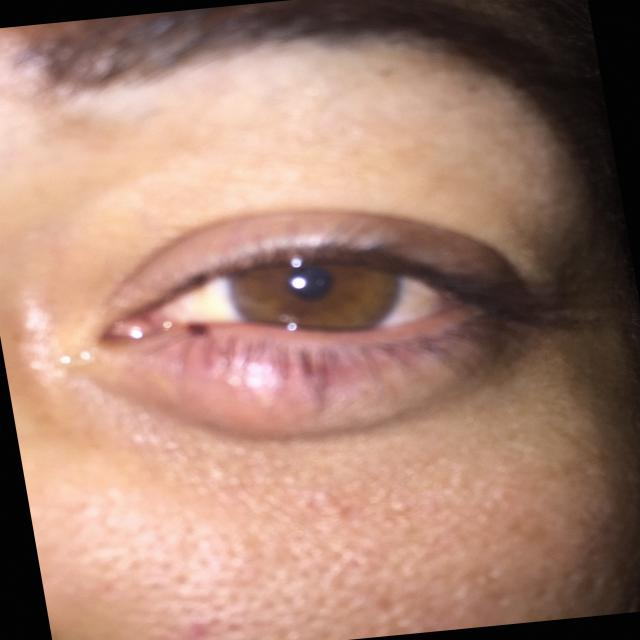Chalazion: (94, 163, 549, 437)
